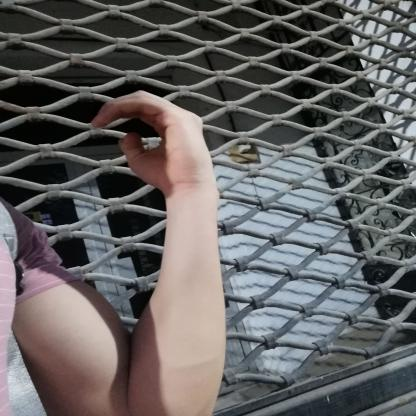JEEM: (75, 81, 229, 195)
